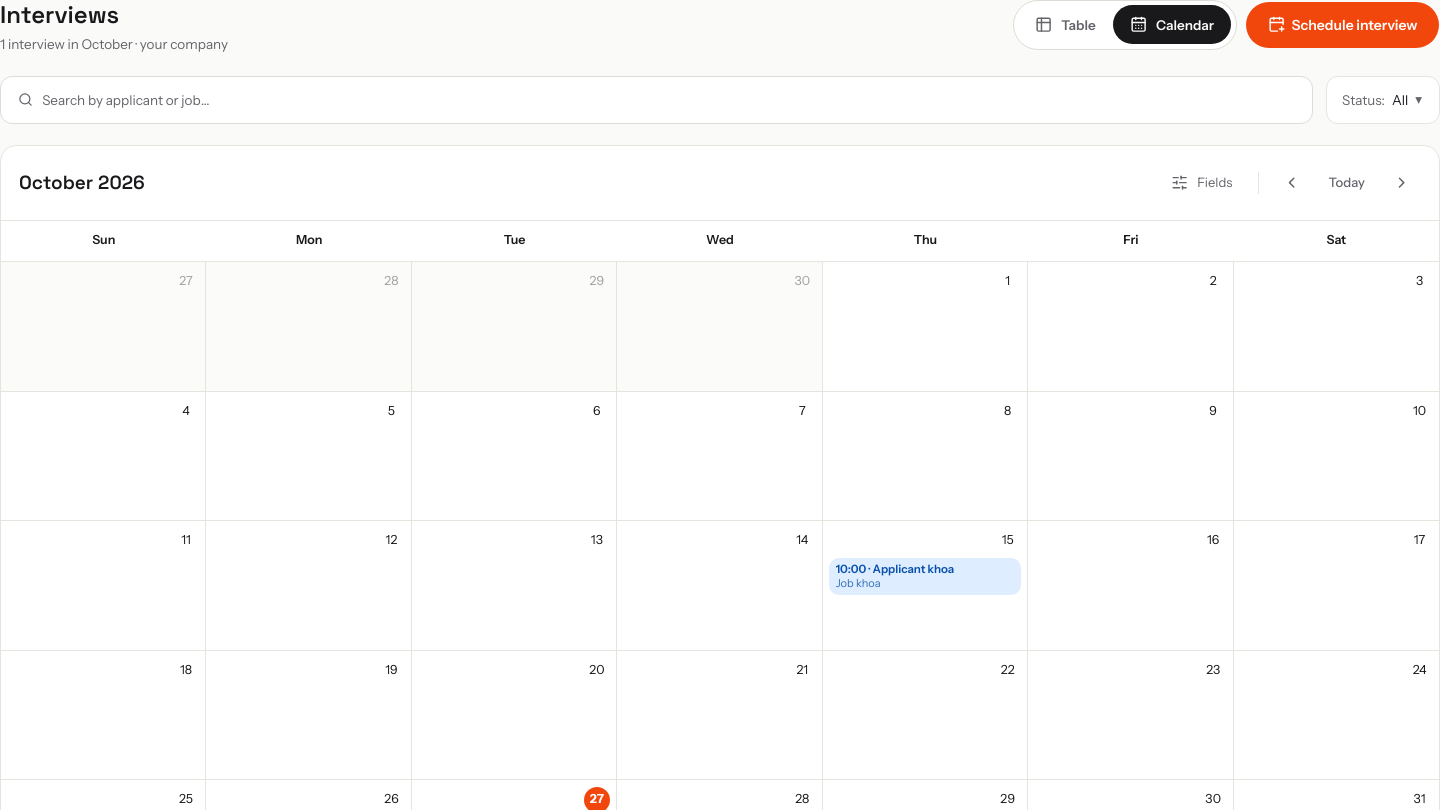
Scenario: Recruiter interviews calendar › opens a summary of the interview from its chip
This screenshot has width=1440, height=810.
Click the text "10:00 · Applicant khoa": click(895, 569) [836,562,954,576]
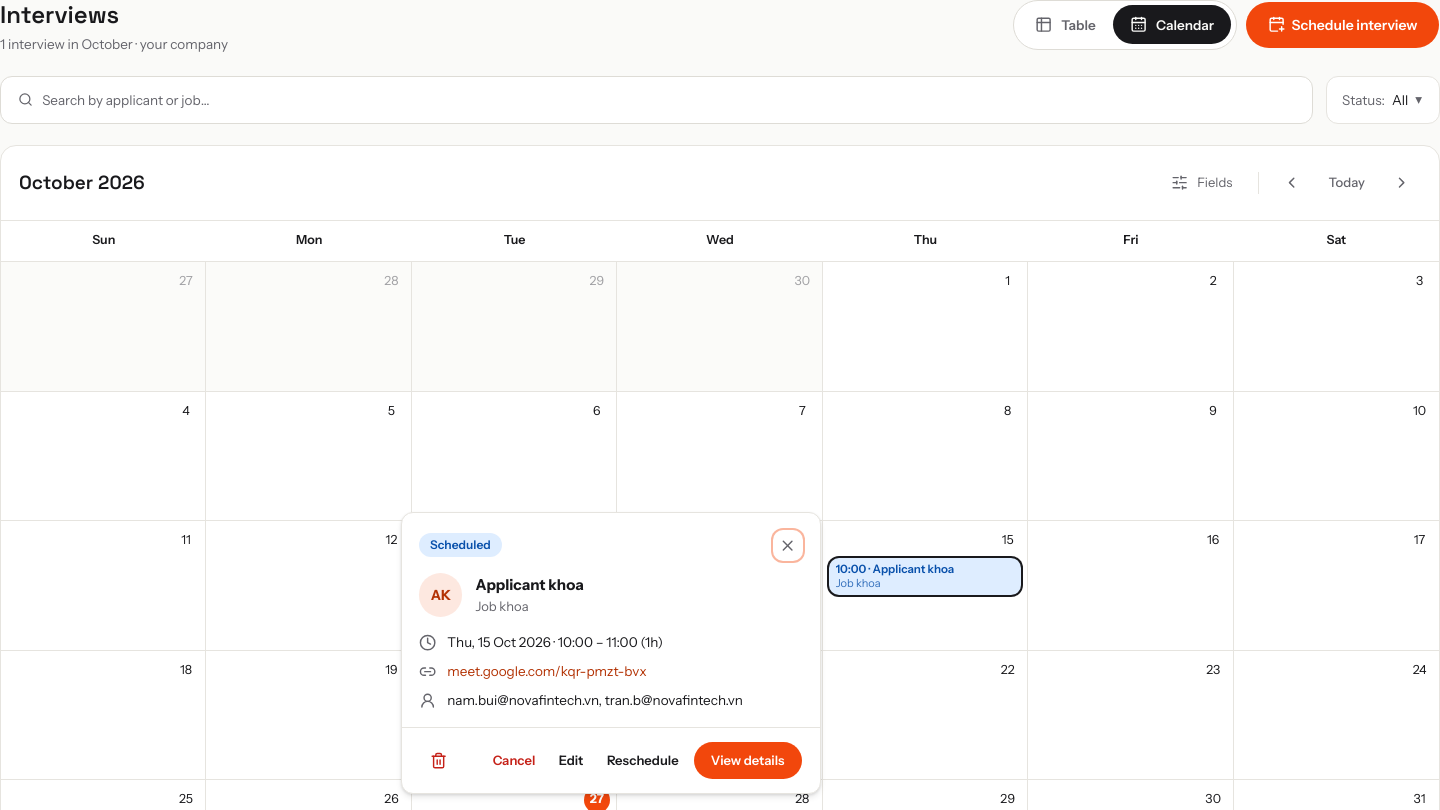
Expected: the text "Thu, 15 Oct 2026 · 10:00 – 11:00 (1h)" is shown, [447,632,663,652]
Expected: the link "meet.google.com/kqr-pmzt-bvx" is shown, [447,663,647,679]
Expected: the text "nam.bui@novafintech.vn, tran.b@novafintech.vn" is shown, [447,690,743,710]
